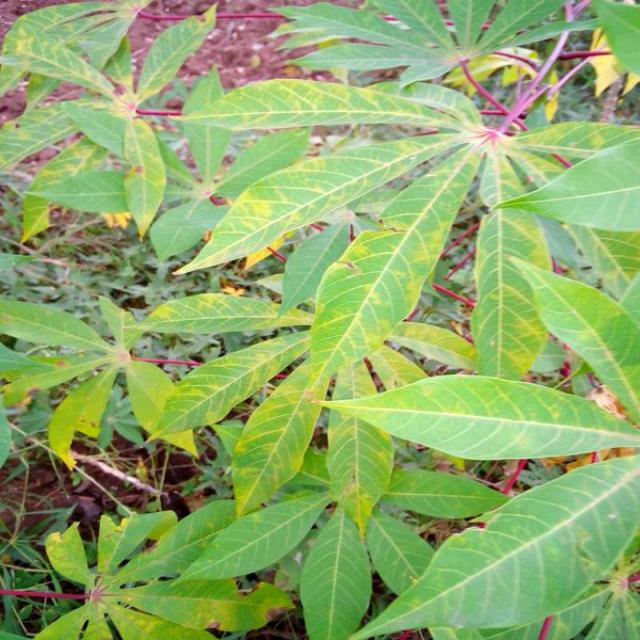cassava leaf: (2, 0, 640, 638), (323, 370, 640, 461)
